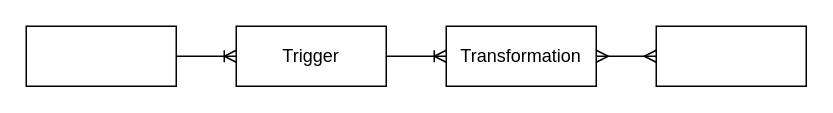
Some shapes in this 833 by 113 pixel diagram are drawn without their labels. Here are the shapes that lost their labels. From the top down, the box of each, then its label:
(25, 25, 176, 86): Type
(655, 25, 806, 86): Endpoint
